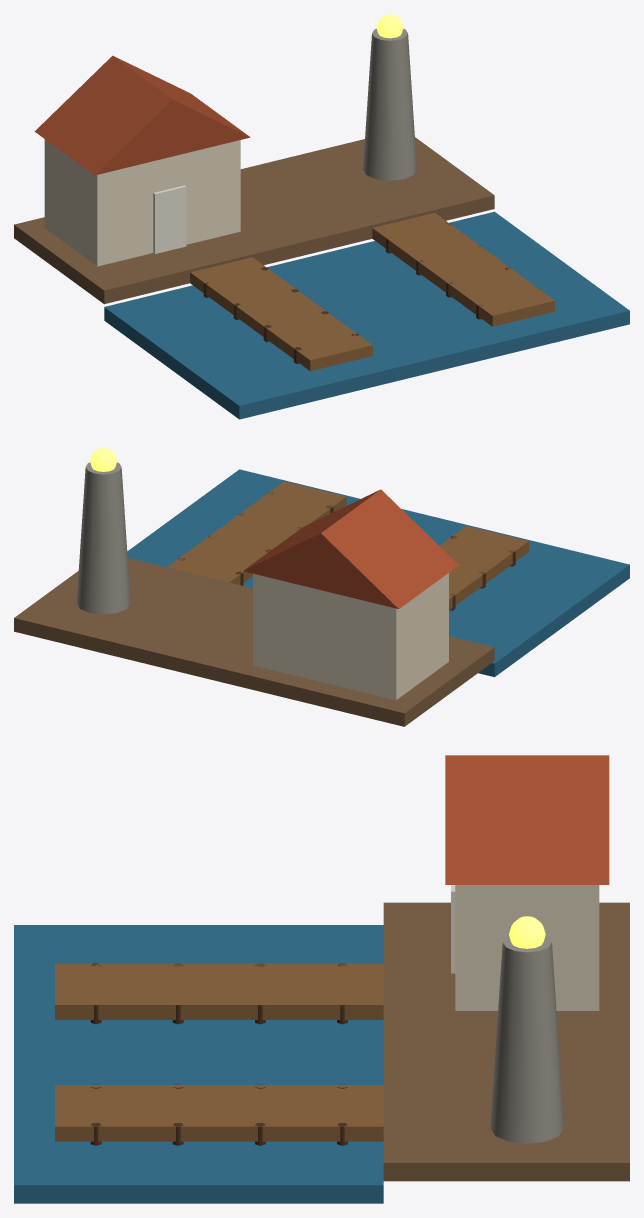
Rendered from bld_special_port_a02.glb.
3 renders of one model, top to bottom at view 1: azimuth 30°, elevation 25°; view 2: azimuth 150°, elevation 25°; view 3: azimuth 270°, elevation 25°, orthographic. The views are drawn at different scales.
Visible parts, largest first — view 1: body; view 2: body; view 3: body.
Boxes of the visible parts, box(x1,y1,x2,y2) form: body: box(14, 14, 629, 419); body: box(14, 448, 629, 726); body: box(14, 755, 629, 1203).
Size of what is drawn, in the model's own units: 15 by 7.05 by 15.
